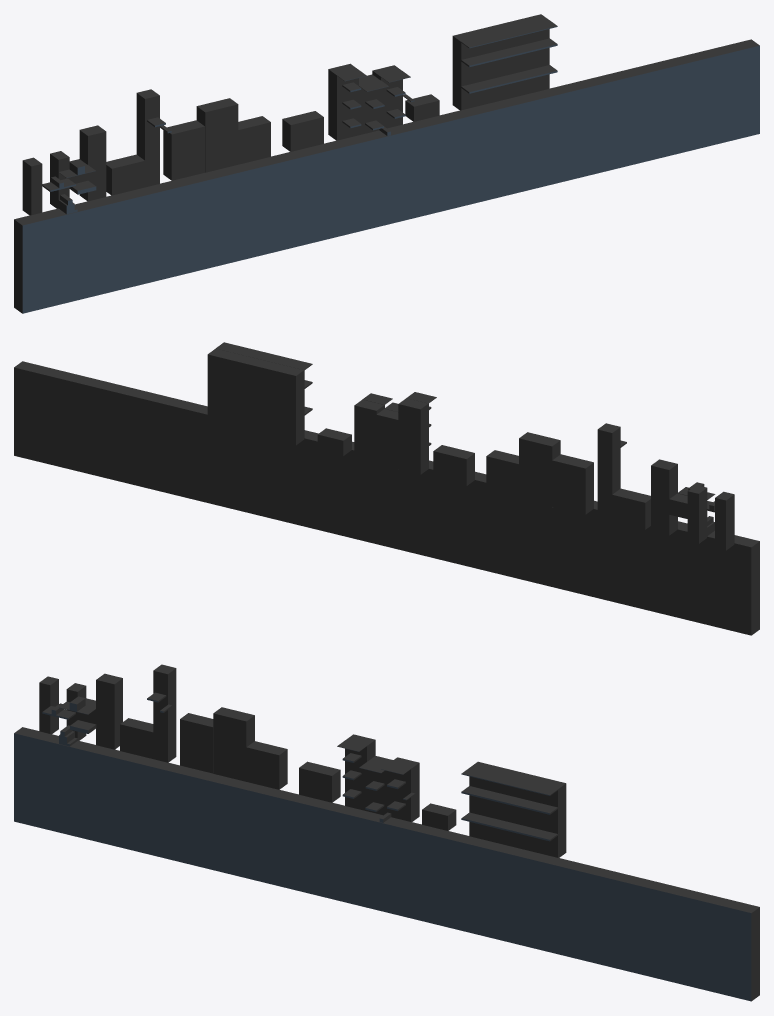
Rendered from level_1(ror).fbx.
3 renders of one model, top to bottom at view 1: azimuth 30°, elevation 25°; view 2: azimuth 150°, elevation 25°; view 3: azimuth 330°, elevation 25°, orthographic.
Parts seen in each view (by area): view 1: LevelMesh; view 2: LevelMesh; view 3: LevelMesh.
Part boxes in pixels (x1=…): LevelMesh: x1=14, y1=14, x2=759, y2=313; LevelMesh: x1=14, y1=342, x2=759, y2=635; LevelMesh: x1=14, y1=664, x2=759, y2=1001.
Size of what is drawn, in the model's own units: 10000 by 395 by 2290.
